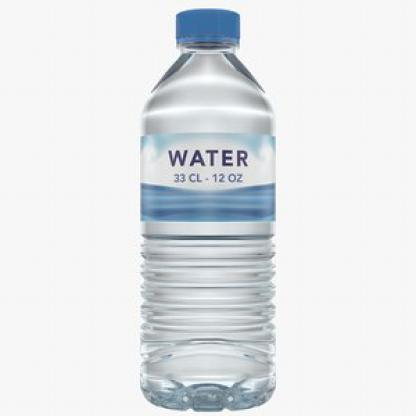bottle: (0, 0, 80, 207)
